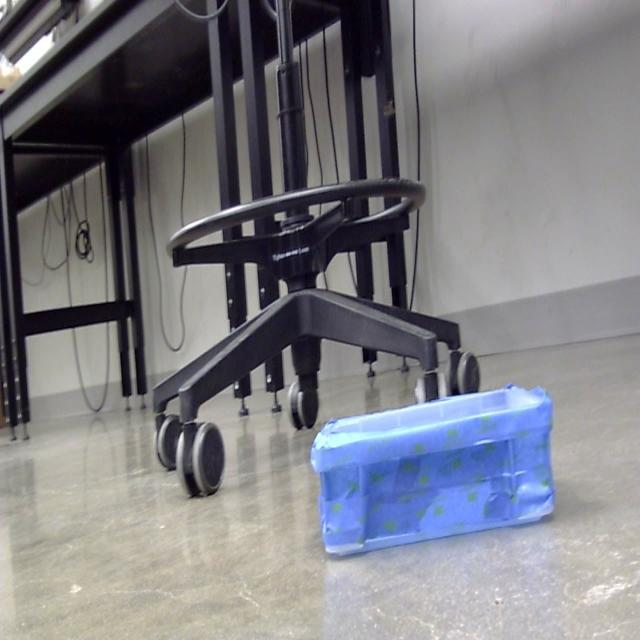bucket: (309, 386, 556, 560)
